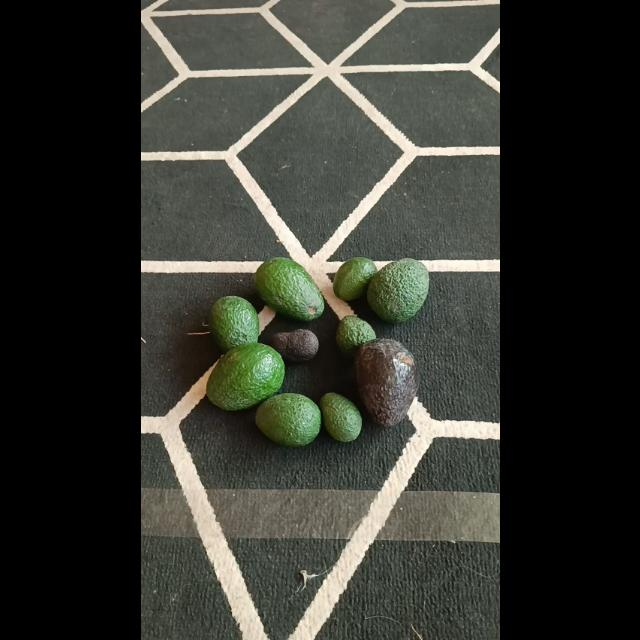Primera: (354, 338, 418, 424), (205, 342, 283, 411), (252, 256, 324, 320), (367, 258, 429, 322)
Segunda: (253, 392, 319, 446), (208, 294, 258, 350)
Tercera: (318, 391, 362, 441), (332, 255, 378, 301), (268, 328, 318, 364), (334, 314, 376, 356)
